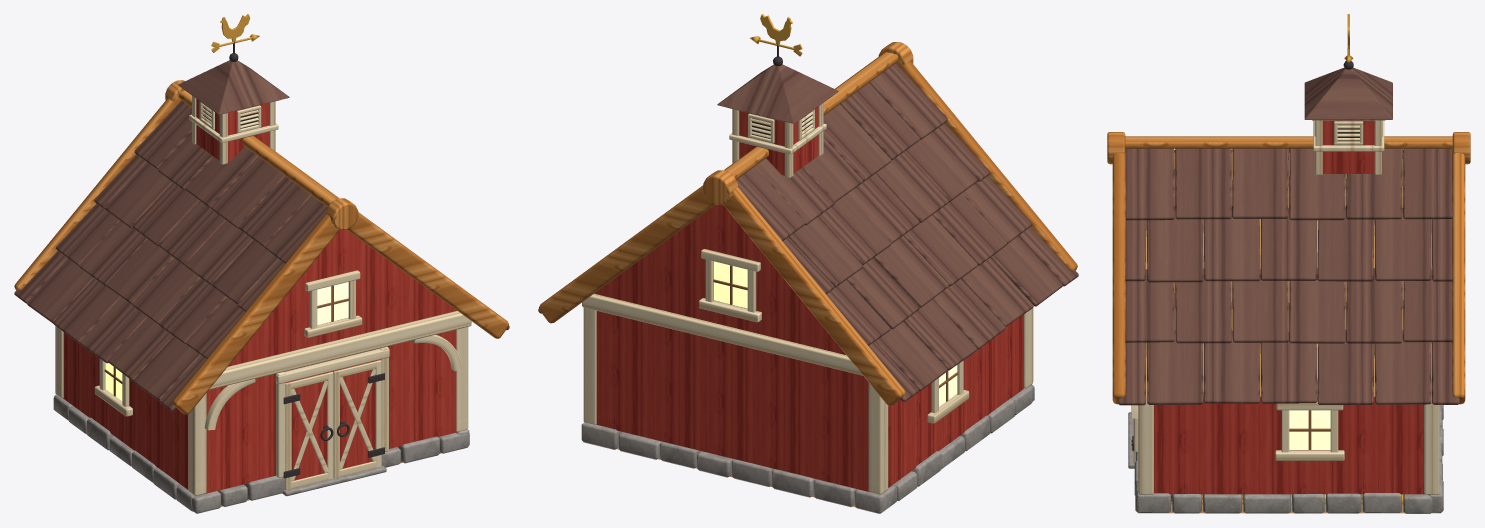
The model's file is barn.glb.
The picture shows the model from 3 angles, left to right: view 1: azimuth 30°, elevation 25°; view 2: azimuth 150°, elevation 25°; view 3: azimuth 270°, elevation 25°; orthographic projection. The views are drawn at different scales.
Visible parts, largest first — view 1: roof, wall_front, wall_left, base, door_r, door_l, wall_front_low, wall_right, wall_left_low; view 2: roof, wall_back, wall_left, base, wall_left_low, wall_back_low, wall_right; view 3: roof, wall_right, base, wall_right_low.
Boxes of the visible parts, left/top/right/bottom form: roof: left=14, top=14, right=509, bottom=414; wall_front: left=204, top=230, right=471, bottom=491; wall_left: left=55, top=326, right=206, bottom=495; base: left=53, top=394, right=469, bottom=513; door_r: left=332, top=359, right=384, bottom=477; door_l: left=283, top=371, right=333, bottom=489; wall_front_low: left=206, top=419, right=456, bottom=493; wall_right: left=456, top=327, right=468, bottom=432; wall_left_low: left=55, top=383, right=206, bottom=495; roof: left=538, top=14, right=1078, bottom=405; wall_back: left=582, top=204, right=869, bottom=492; wall_left: left=868, top=308, right=1033, bottom=494; base: left=581, top=384, right=1034, bottom=513; wall_left_low: left=868, top=371, right=1033, bottom=493; wall_back_low: left=596, top=411, right=839, bottom=483; wall_right: left=583, top=307, right=596, bottom=424; roof: left=1107, top=14, right=1470, bottom=405; wall_right: left=1138, top=396, right=1439, bottom=494; base: left=1128, top=405, right=1443, bottom=513; wall_right_low: left=1138, top=479, right=1437, bottom=494.
Size of the model in its own units: 7.04 by 7.86 by 6.08.
Materials: 16 (9 with a texture image).
